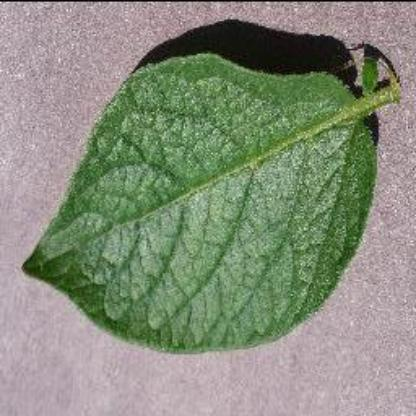Healthy-plant: (20, 27, 386, 372)
